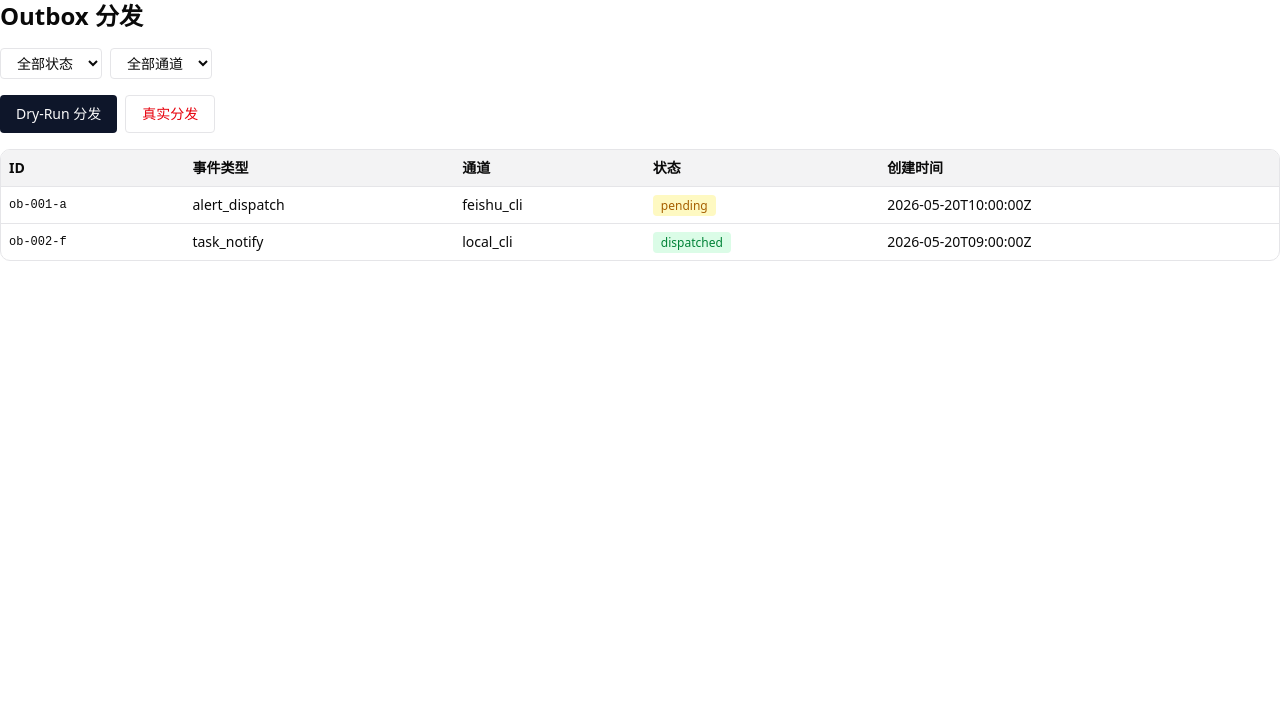
it: Outbox › confirm dialog appears for apply
expect the text "ob-001-a" is shown: met, box [1, 186, 184, 224]
# Click "真实分发" button
Click the button "真实分发" at (170, 114), box [125, 95, 215, 133]
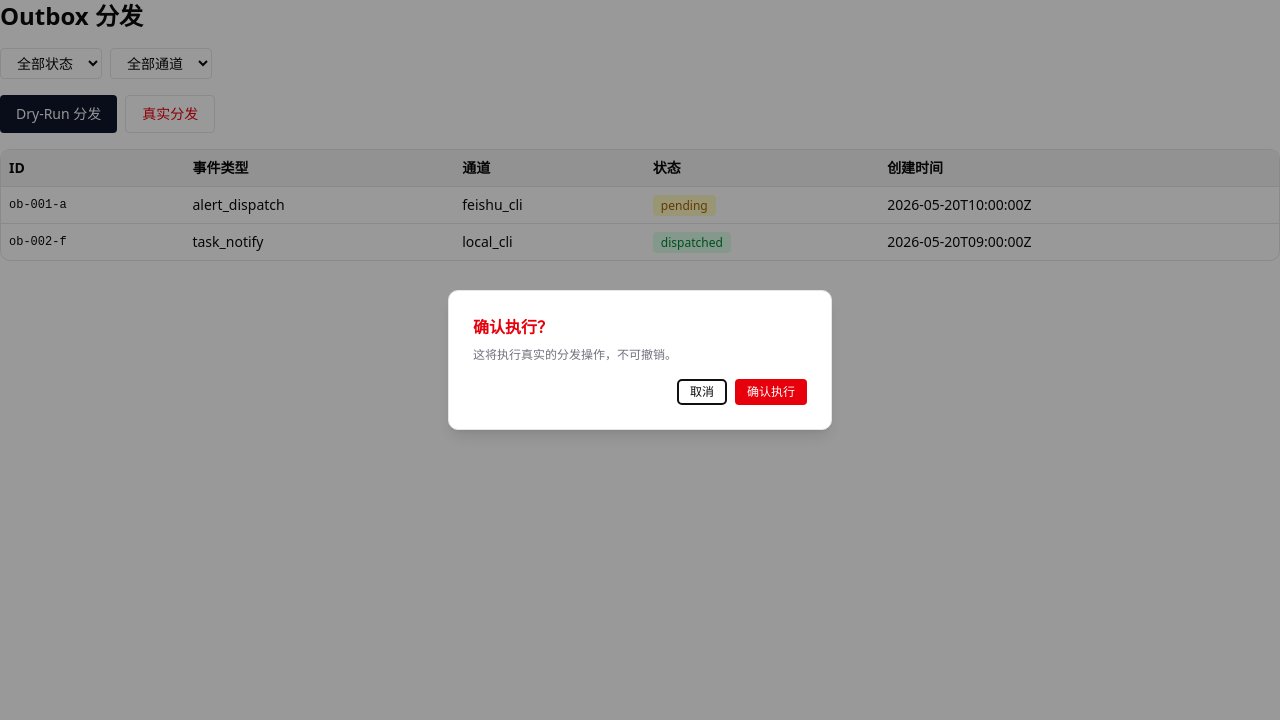
expect the heading "确认执行？" is shown: met, box [473, 316, 553, 338]
expect the text "这将执行真实的分发操作，不可撤销。" is shown: met, box [473, 346, 677, 363]
expect the button "确认执行" is shown: met, box [735, 379, 807, 405]
